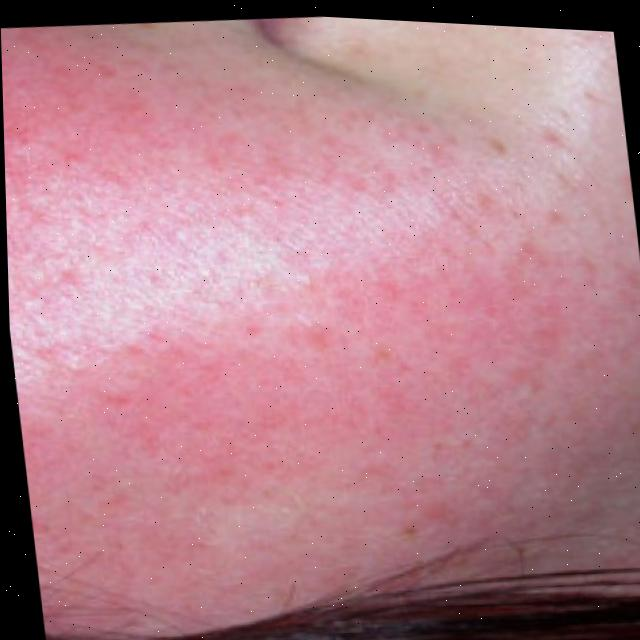Rosacea: (0, 4, 611, 602)
